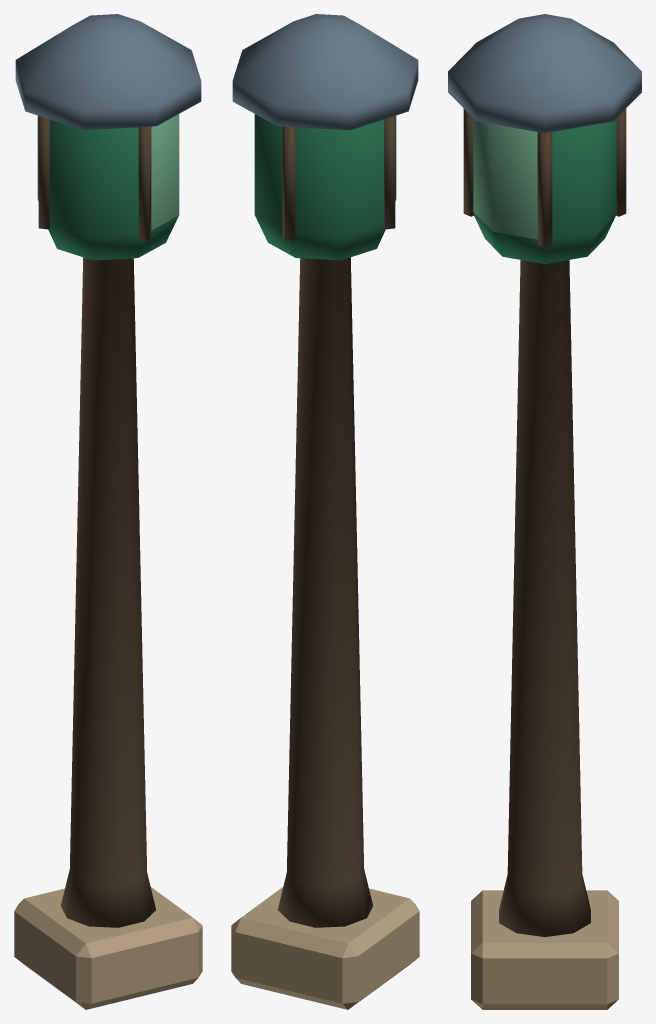
The model's file is beacon_pole.glb.
3 renders of one model, left to right at view 1: azimuth 30°, elevation 25°; view 2: azimuth 150°, elevation 25°; view 3: azimuth 270°, elevation 25°, orthographic.
Parts seen in each view (by area): view 1: beacon_pole; view 2: beacon_pole; view 3: beacon_pole.
Boxes of the visible parts, x1,y1,x2,y2 form: beacon_pole: (14, 14, 202, 1009); beacon_pole: (231, 14, 419, 1009); beacon_pole: (448, 14, 641, 1009).
Bounding box in the file's own units: 0.42 × 2.3 × 0.42.
